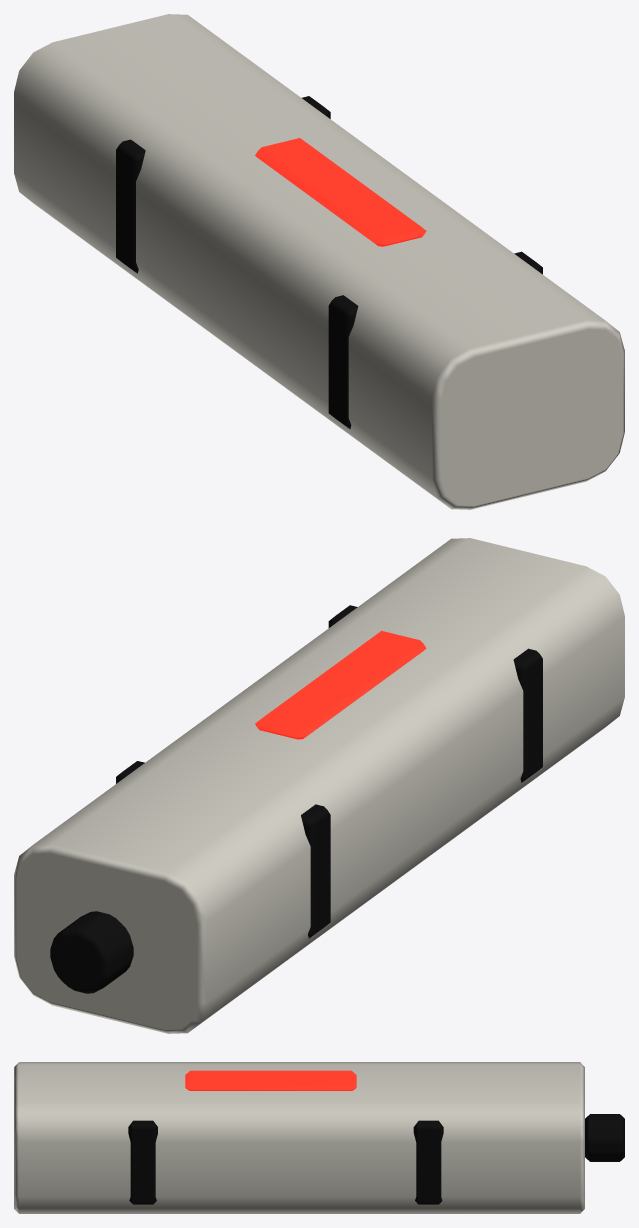
File: module_2_battery_pack.glb
The picture shows the model from 3 angles, top to bottom: view 1: azimuth 30°, elevation 25°; view 2: azimuth 150°, elevation 25°; view 3: azimuth 270°, elevation 25°; orthographic projection. The views are drawn at different scales.
Parts seen in each view (by area): view 1: module_2_battery_pack; view 2: module_2_battery_pack; view 3: module_2_battery_pack.
Part boxes in pixels (x1,y1,x2,y2): module_2_battery_pack: [14, 14, 624, 509]; module_2_battery_pack: [14, 538, 624, 1033]; module_2_battery_pack: [14, 1062, 624, 1213].
Bounding box in the file's own units: 0.031 × 0.0255 × 0.1224.
